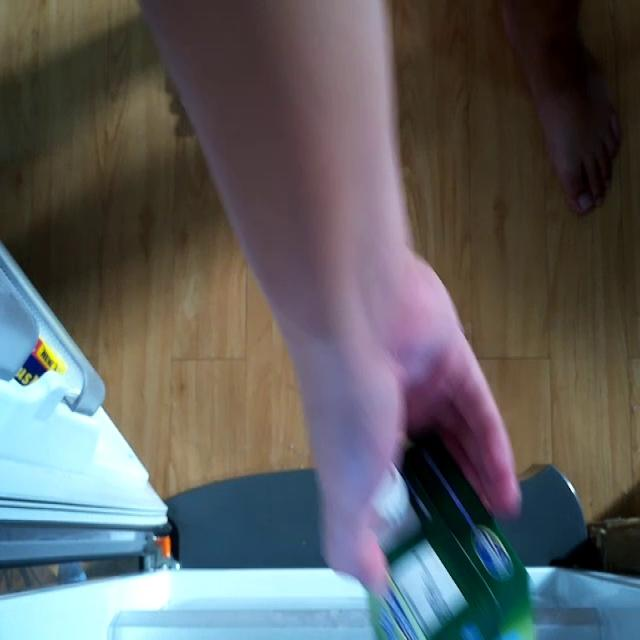milk: (350, 442, 535, 640)
